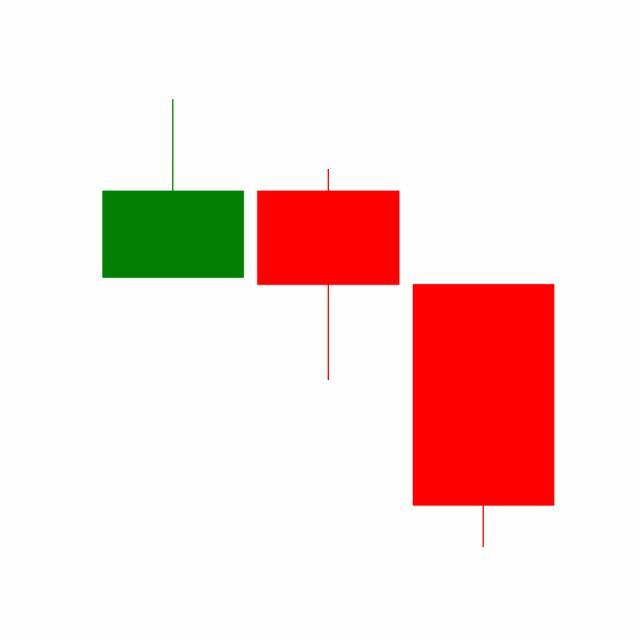Hammer: (250, 166, 407, 383)
